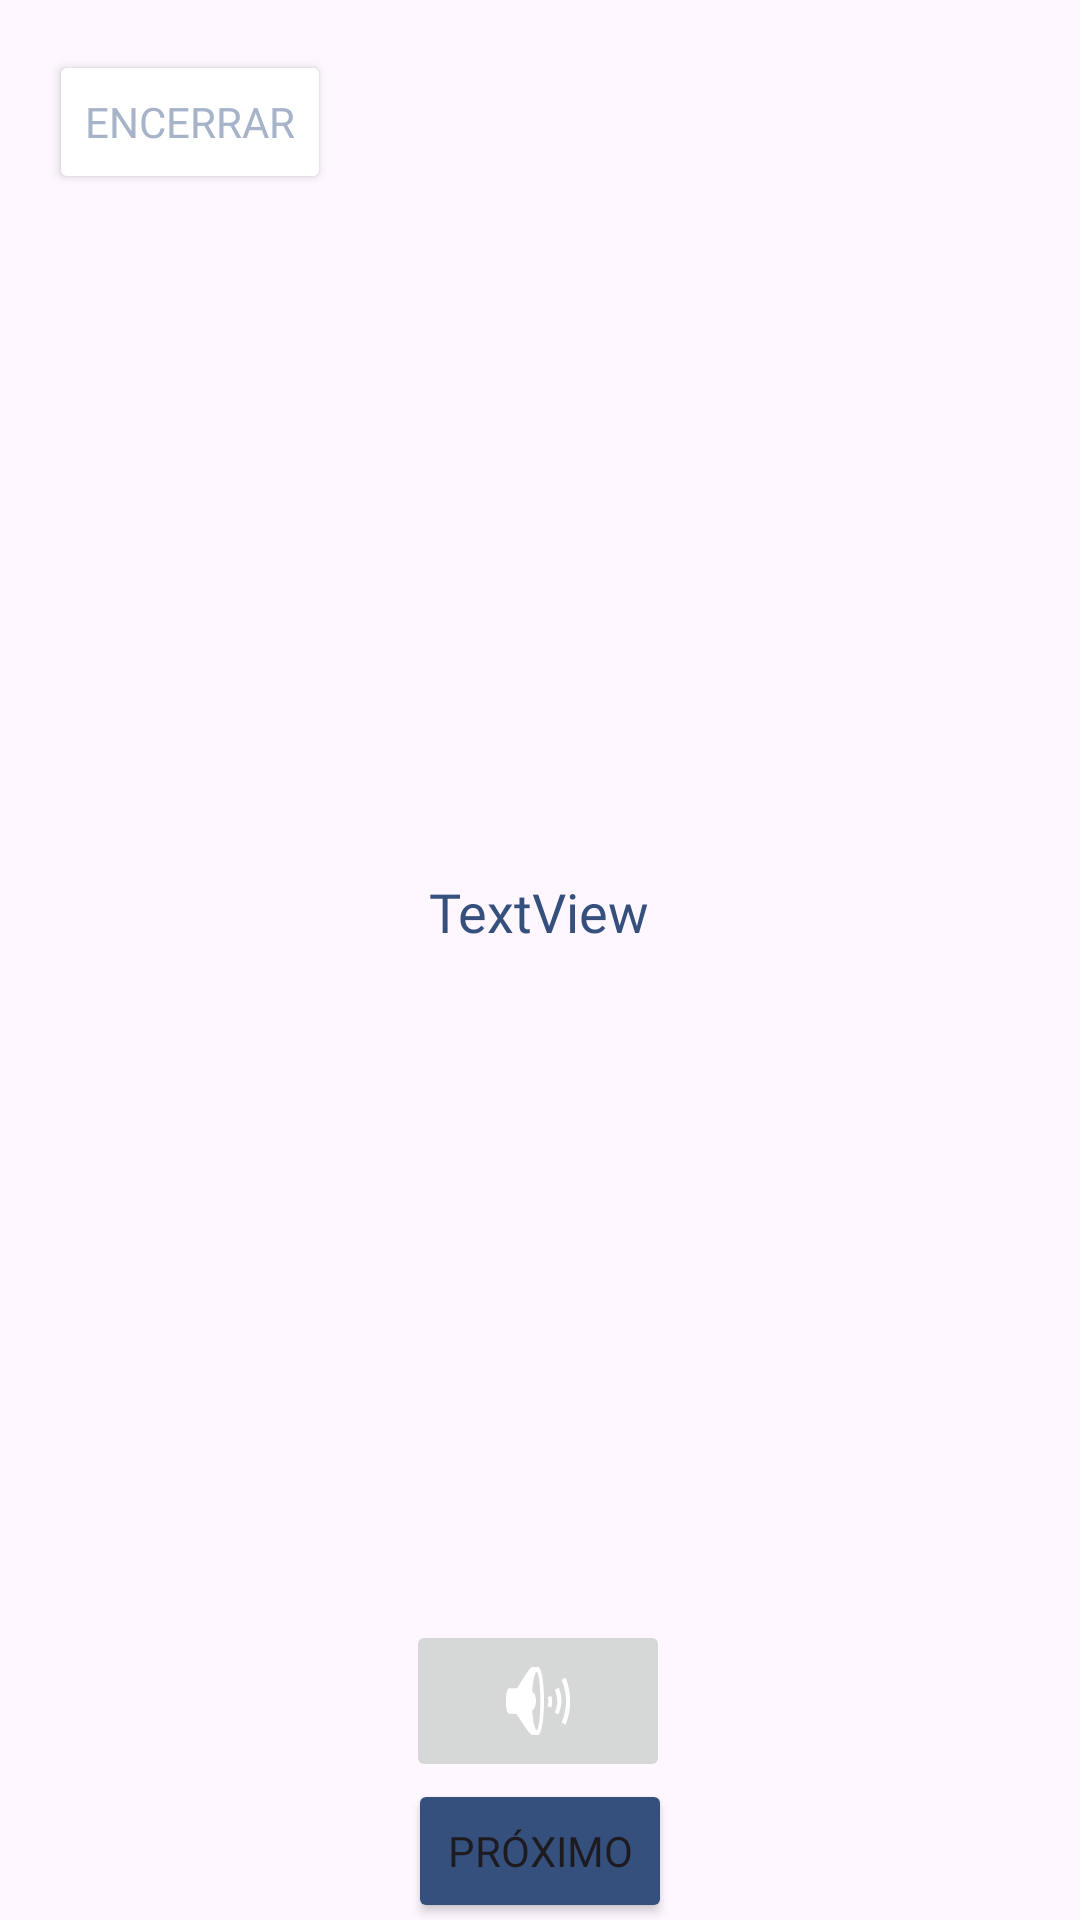

Locate icon controls on the screen. Image size 1080x1920, boxes as (x1, y1, x2, y2).
lock silent mode off: (418, 1638, 658, 1764)
